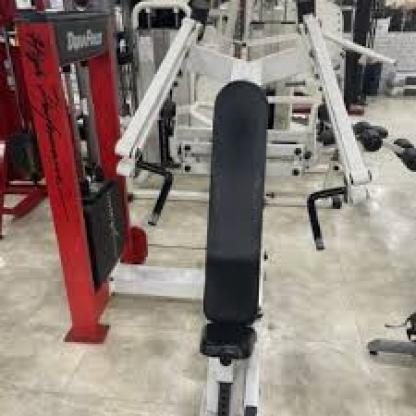Chest Press machine: (13, 0, 378, 416)
